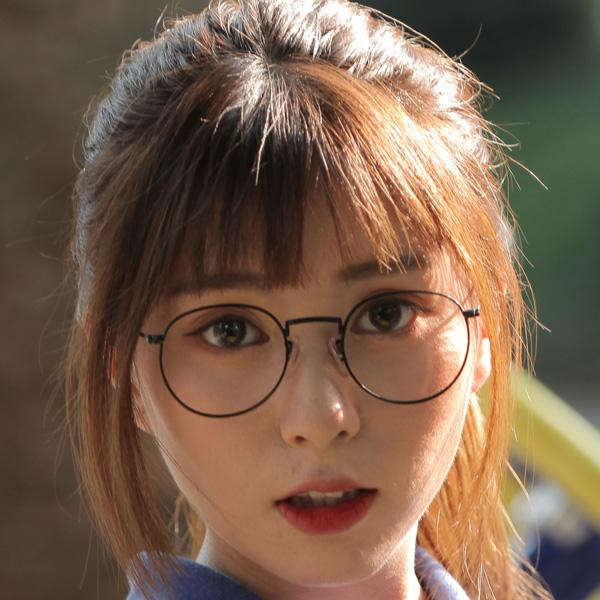Eyes: (343, 286, 433, 347), (183, 305, 277, 363)
